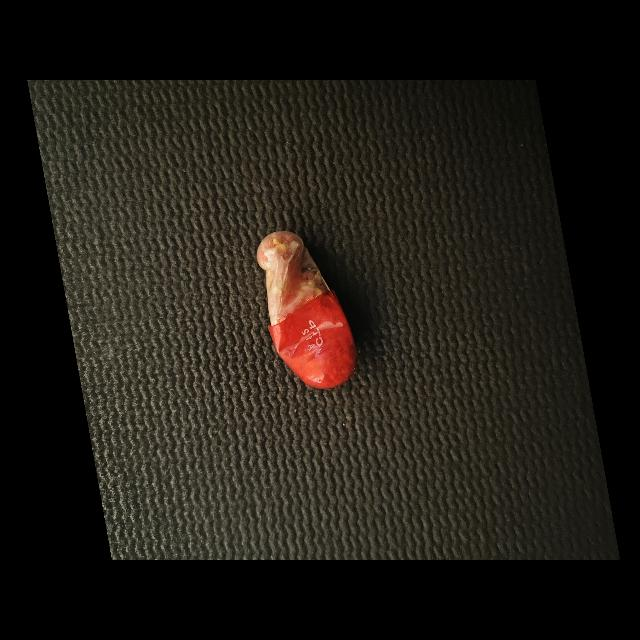Defective Capsule: (257, 231, 357, 389)
